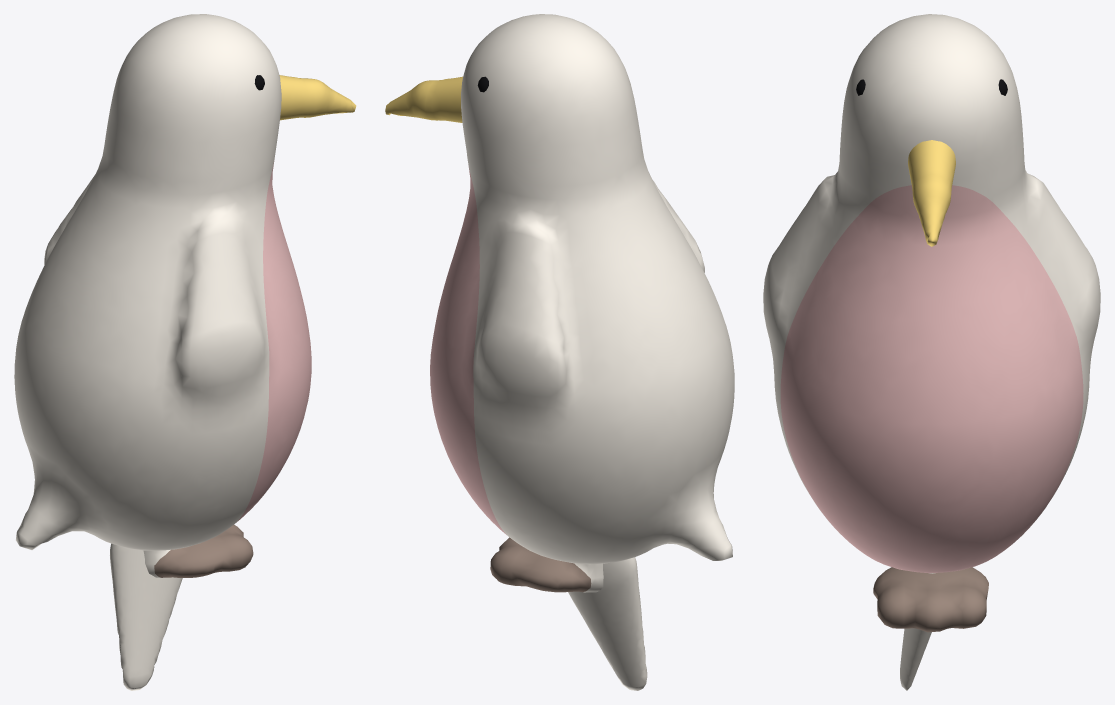
File: penguin107_adult.glb
3 renders of one model, left to right at view 1: azimuth 30°, elevation 25°; view 2: azimuth 150°, elevation 25°; view 3: azimuth 270°, elevation 25°, orthographic. The views are drawn at different scales.
Parts seen in each view (by area): view 1: body, wing, leg, beak; view 2: body, wing, leg, beak; view 3: body, leg, beak, wing.
Boxes of the visible parts, x1,y1,x2,y2 form: body: (14, 14, 311, 550); wing: (110, 543, 182, 690); leg: (143, 525, 253, 577); beak: (279, 75, 356, 120); body: (430, 14, 734, 564); wing: (568, 557, 647, 690); leg: (490, 537, 603, 592); beak: (385, 76, 462, 122); body: (763, 14, 1100, 573); leg: (873, 567, 988, 632); beak: (908, 140, 955, 246); wing: (900, 573, 935, 690).
Size of the model in its own units: 1.5 by 2.75 by 1.19.
